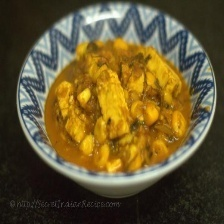sabzi: (43, 34, 194, 178)
